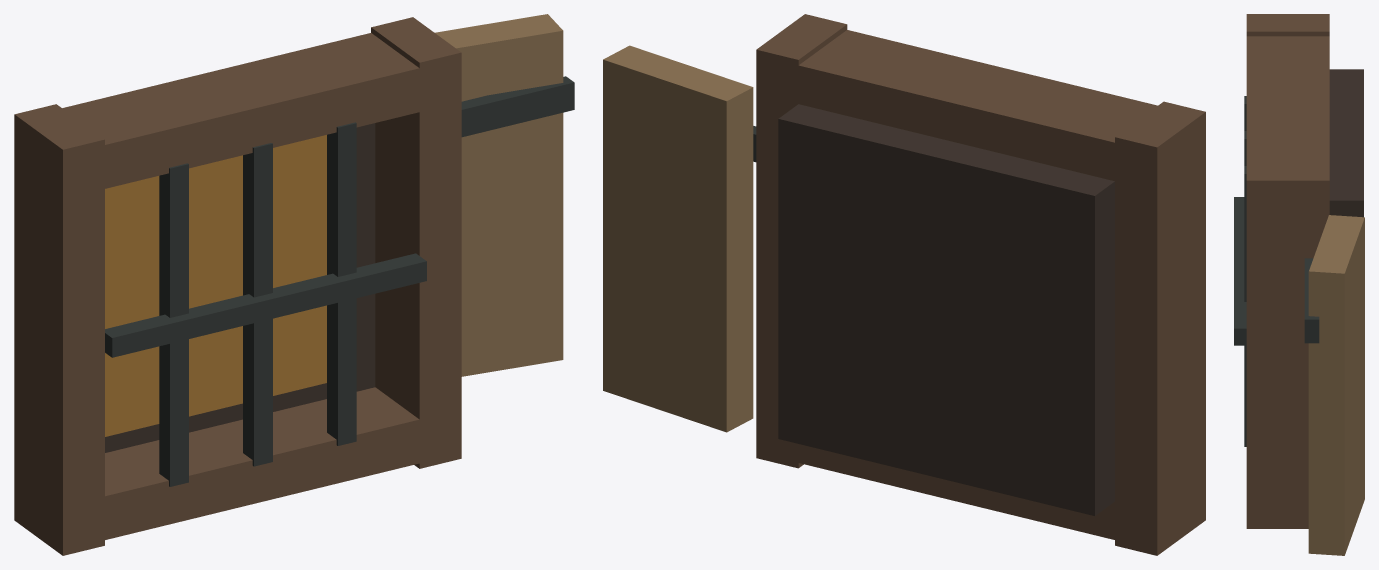
File: window_barred.glb
The picture shows the model from 3 angles, left to right: view 1: azimuth 30°, elevation 25°; view 2: azimuth 150°, elevation 25°; view 3: azimuth 270°, elevation 25°; orthographic projection. The views are drawn at different scales.
Visible parts, largest first — view 1: window frame, warm window pane, patched shutter, window frame.001, window frame.003, window frame.002, cross bar, window iron bar.001, window iron bar.002, window iron bar, dark window recess, shutter strap; view 2: dark window recess, patched shutter, window frame, window frame.003, window frame.001, window frame.002; view 3: window frame.001, patched shutter, window frame.003, dark window recess, window frame, cross bar, shutter strap, window iron bar.002.
Boxes of the visible parts, box(x1,y1,x2,y2) form: window frame: box(14, 104, 104, 555); warm window pane: box(105, 135, 326, 436); patched shutter: box(435, 14, 563, 376); window frame.001: box(371, 17, 461, 468); window frame.003: box(62, 33, 456, 194); window frame.002: box(68, 387, 455, 548); cross bar: box(105, 253, 426, 357); window iron bar.001: box(243, 143, 272, 466); window iron bar.002: box(327, 122, 356, 445); window iron bar: box(159, 163, 188, 486); dark window recess: box(105, 123, 375, 452); shutter strap: box(461, 76, 574, 137); dark window recess: box(778, 104, 1114, 515); patched shutter: box(603, 45, 753, 432); window frame: box(1115, 101, 1205, 555); window frame.003: box(761, 30, 1157, 195); window frame.001: box(756, 14, 847, 468); window frame.002: box(761, 411, 1151, 548); window frame.001: box(1246, 163, 1329, 528); patched shutter: box(1308, 215, 1364, 555); window frame.003: box(1246, 36, 1329, 163); dark window recess: box(1329, 69, 1363, 217); window frame: box(1246, 14, 1329, 36); cross bar: box(1234, 197, 1246, 345); shutter strap: box(1304, 258, 1319, 343); window iron bar.002: box(1244, 166, 1246, 446).
Size of the model in its own units: 0.52 by 0.37 by 0.126.
